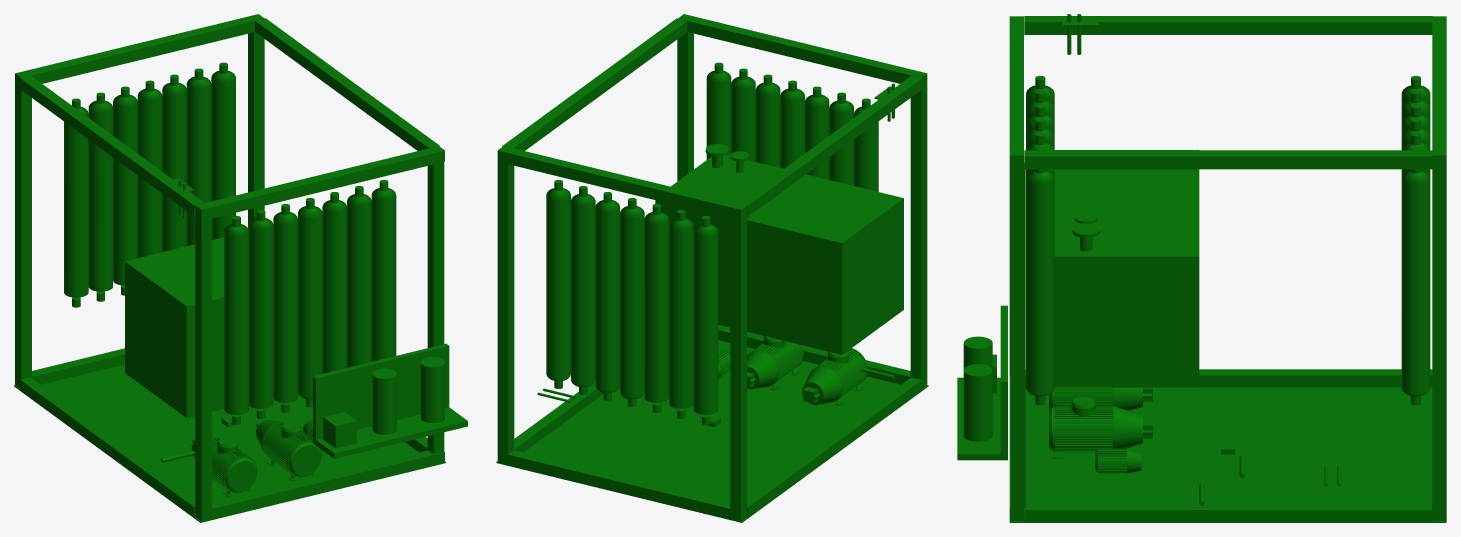
File: Image-1711348062628-2281236198432_65-XX50.fbx
3 views of the same model, side by side, from view 1: azimuth 30°, elevation 25°; view 2: azimuth 150°, elevation 25°; view 3: azimuth 270°, elevation 25° (orthographic). The views are drawn at different scales.
Parts seen in each view (by area): view 1: BOX 16 of SUBEQUIPMENT /65-XX50-PRIM, BOX 14 of SUBEQUIPMENT /65-XX50-PRIM, BOX 3 of SUBEQUIPMENT /65-XX051, BOX 11 of SUBEQUIPMENT /65-XX50-PRIM, BOX 10 of SUBEQUIPMENT /65-XX50-PRIM, CYLINDER 18 of SUBEQUIPMENT 7 of EQUIPMENT /65-XX50, CYLINDER 19 of SUBEQUIPMENT 7 of EQUIPMENT /65-XX50, CYLINDER 17 of SUBEQUIPMENT 7 of EQUIPMENT /65-XX50, BOX 2 of SUBEQUIPMENT /65-XX50-PRIM, CYLINDER 1 of SUBEQUIPMENT 7 of EQUIPMENT /65-XX50, BOX 1 of SUBEQUIPMENT /65-XX50-PRIM, CYLINDER 14 of SUBEQUIPMENT 7 of EQUIPMENT /65-XX50 (+22 smaller); view 2: BOX 14 of SUBEQUIPMENT /65-XX50-PRIM, BOX 16 of SUBEQUIPMENT /65-XX50-PRIM, BOX 8 of SUBEQUIPMENT /65-XX50-PRIM, BOX 11 of SUBEQUIPMENT /65-XX50-PRIM, BOX 10 of SUBEQUIPMENT /65-XX50-PRIM, CYLINDER 17 of SUBEQUIPMENT 8 of EQUIPMENT /65-XX50, CYLINDER 19 of SUBEQUIPMENT 8 of EQUIPMENT /65-XX50, CYLINDER 15 of SUBEQUIPMENT 8 of EQUIPMENT /65-XX50, CYLINDER 1 of SUBEQUIPMENT 8 of EQUIPMENT /65-XX50, CYLINDER 14 of SUBEQUIPMENT 8 of EQUIPMENT /65-XX50, CYLINDER 16 of SUBEQUIPMENT 8 of EQUIPMENT /65-XX50, CYLINDER 18 of SUBEQUIPMENT 8 of EQUIPMENT /65-XX50 (+18 smaller); view 3: BOX 16 of SUBEQUIPMENT /65-XX50-PRIM, BOX 14 of SUBEQUIPMENT /65-XX50-PRIM, BOX 5 of SUBEQUIPMENT /65-XX50-PRIM, BOX 6 of SUBEQUIPMENT /65-XX50-PRIM, BOX 12 of SUBEQUIPMENT /65-XX50-PRIM, CYLINDER 14 of SUBEQUIPMENT 8 of EQUIPMENT /65-XX50, CYLINDER 14 of SUBEQUIPMENT 7 of EQUIPMENT /65-XX50, BOX 9 of SUBEQUIPMENT /65-XX50-PRIM, BOX 8 of SUBEQUIPMENT /65-XX50-PRIM, BOX 7 of SUBEQUIPMENT /65-XX50-PRIM, BOX 2 of SUBEQUIPMENT /65-XX50-PRIM, BOX 4 of SUBEQUIPMENT /65-XX50-PRIM (+8 smaller).
Part boxes in pixels (<box>): BOX 16 of SUBEQUIPMENT /65-XX50-PRIM: <box>14,364,445,522</box>; BOX 14 of SUBEQUIPMENT /65-XX50-PRIM: <box>125,237,224,417</box>; BOX 3 of SUBEQUIPMENT /65-XX051: <box>313,343,449,439</box>; BOX 11 of SUBEQUIPMENT /65-XX50-PRIM: <box>195,216,212,511</box>; BOX 10 of SUBEQUIPMENT /65-XX50-PRIM: <box>15,84,31,379</box>; CYLINDER 18 of SUBEQUIPMENT 7 of EQUIPMENT /65-XX50: <box>248,225,273,408</box>; CYLINDER 19 of SUBEQUIPMENT 7 of EQUIPMENT /65-XX50: <box>273,219,297,402</box>; CYLINDER 17 of SUBEQUIPMENT 7 of EQUIPMENT /65-XX50: <box>224,231,248,414</box>; BOX 2 of SUBEQUIPMENT /65-XX50-PRIM: <box>195,146,444,220</box>; CYLINDER 1 of SUBEQUIPMENT 7 of EQUIPMENT /65-XX50: <box>298,213,322,396</box>; BOX 1 of SUBEQUIPMENT /65-XX50-PRIM: <box>195,450,444,522</box>; CYLINDER 14 of SUBEQUIPMENT 7 of EQUIPMENT /65-XX50: <box>371,195,396,361</box>; BOX 14 of SUBEQUIPMENT /65-XX50-PRIM: <box>655,155,903,354</box>; BOX 16 of SUBEQUIPMENT /65-XX50-PRIM: <box>496,340,928,522</box>; BOX 8 of SUBEQUIPMENT /65-XX50-PRIM: <box>497,162,514,454</box>; BOX 11 of SUBEQUIPMENT /65-XX50-PRIM: <box>910,85,927,379</box>; BOX 10 of SUBEQUIPMENT /65-XX50-PRIM: <box>730,217,746,511</box>; CYLINDER 17 of SUBEQUIPMENT 8 of EQUIPMENT /65-XX50: <box>693,230,718,414</box>; CYLINDER 19 of SUBEQUIPMENT 8 of EQUIPMENT /65-XX50: <box>644,219,669,402</box>; CYLINDER 15 of SUBEQUIPMENT 8 of EQUIPMENT /65-XX50: <box>571,201,595,384</box>; CYLINDER 1 of SUBEQUIPMENT 8 of EQUIPMENT /65-XX50: <box>620,212,644,396</box>; CYLINDER 14 of SUBEQUIPMENT 8 of EQUIPMENT /65-XX50: <box>546,194,570,378</box>; CYLINDER 16 of SUBEQUIPMENT 8 of EQUIPMENT /65-XX50: <box>595,208,619,390</box>; CYLINDER 18 of SUBEQUIPMENT 8 of EQUIPMENT /65-XX50: <box>669,226,693,408</box>; BOX 16 of SUBEQUIPMENT /65-XX50-PRIM: <box>1009,387,1446,522</box>; BOX 14 of SUBEQUIPMENT /65-XX50-PRIM: <box>1054,150,1199,387</box>; BOX 5 of SUBEQUIPMENT /65-XX50-PRIM: <box>1024,150,1432,169</box>; BOX 6 of SUBEQUIPMENT /65-XX50-PRIM: <box>1024,503,1432,522</box>; BOX 12 of SUBEQUIPMENT /65-XX50-PRIM: <box>1024,16,1432,34</box>; CYLINDER 14 of SUBEQUIPMENT 8 of EQUIPMENT /65-XX50: <box>1401,179,1430,393</box>; CYLINDER 14 of SUBEQUIPMENT 7 of EQUIPMENT /65-XX50: <box>1026,179,1054,393</box>; BOX 9 of SUBEQUIPMENT /65-XX50-PRIM: <box>1011,163,1025,509</box>; BOX 8 of SUBEQUIPMENT /65-XX50-PRIM: <box>1432,168,1446,509</box>; BOX 7 of SUBEQUIPMENT /65-XX50-PRIM: <box>1025,369,1432,387</box>; BOX 2 of SUBEQUIPMENT /65-XX50-PRIM: <box>1009,16,1023,168</box>; BOX 4 of SUBEQUIPMENT /65-XX50-PRIM: <box>1432,16,1446,168</box>.
Bounding box in the file's own units: 2.36 × 3.39 × 2.9.
